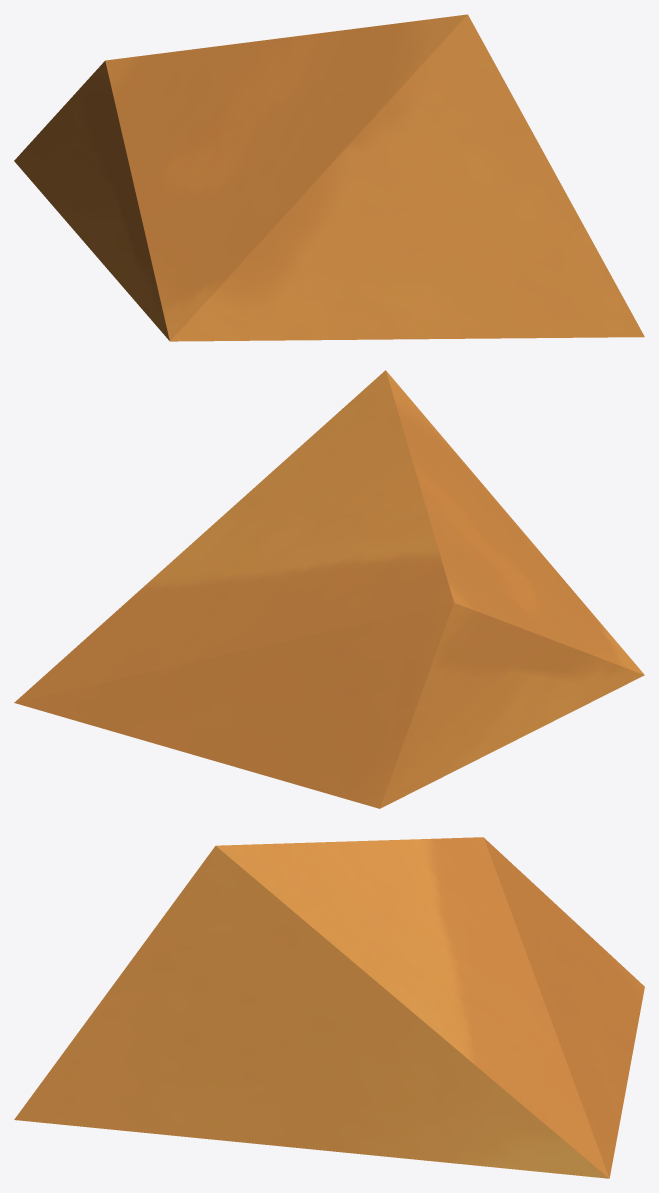
The model's file is desert-stone-small1.fbx.
3 views of the same model, one above another, from view 1: azimuth 30°, elevation 25°; view 2: azimuth 150°, elevation 25°; view 3: azimuth 270°, elevation 25° (orthographic). The views are drawn at different scales.
Parts seen in each view (by area): view 1: pCube22; view 2: pCube22; view 3: pCube22.
Part boxes in pixels (left/top/right/bottom): pCube22: left=14, top=14, right=644, bottom=341; pCube22: left=14, top=370, right=644, bottom=808; pCube22: left=14, top=837, right=644, bottom=1178.
Size of the model in its own units: 0.751 by 0.3814 by 0.8979.
Materials: 1 (1 with a texture image).
